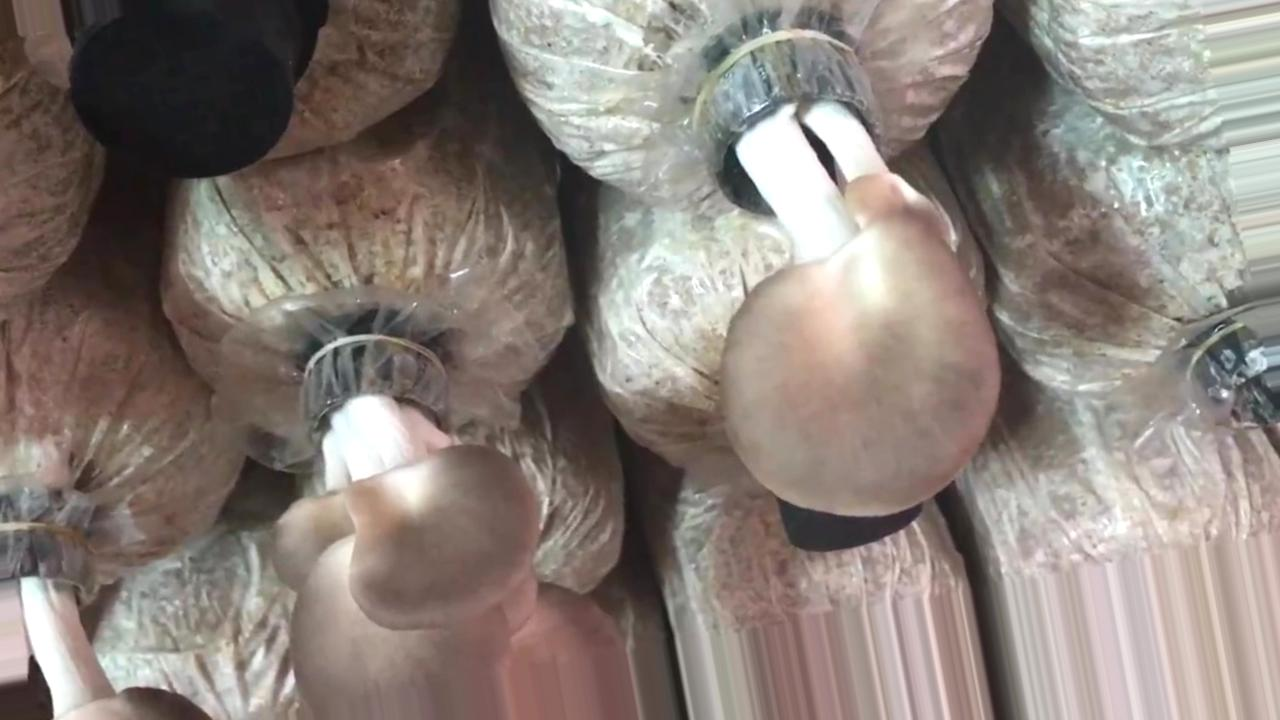nam: (692, 38, 998, 519), (271, 341, 640, 720), (1, 490, 210, 720)
